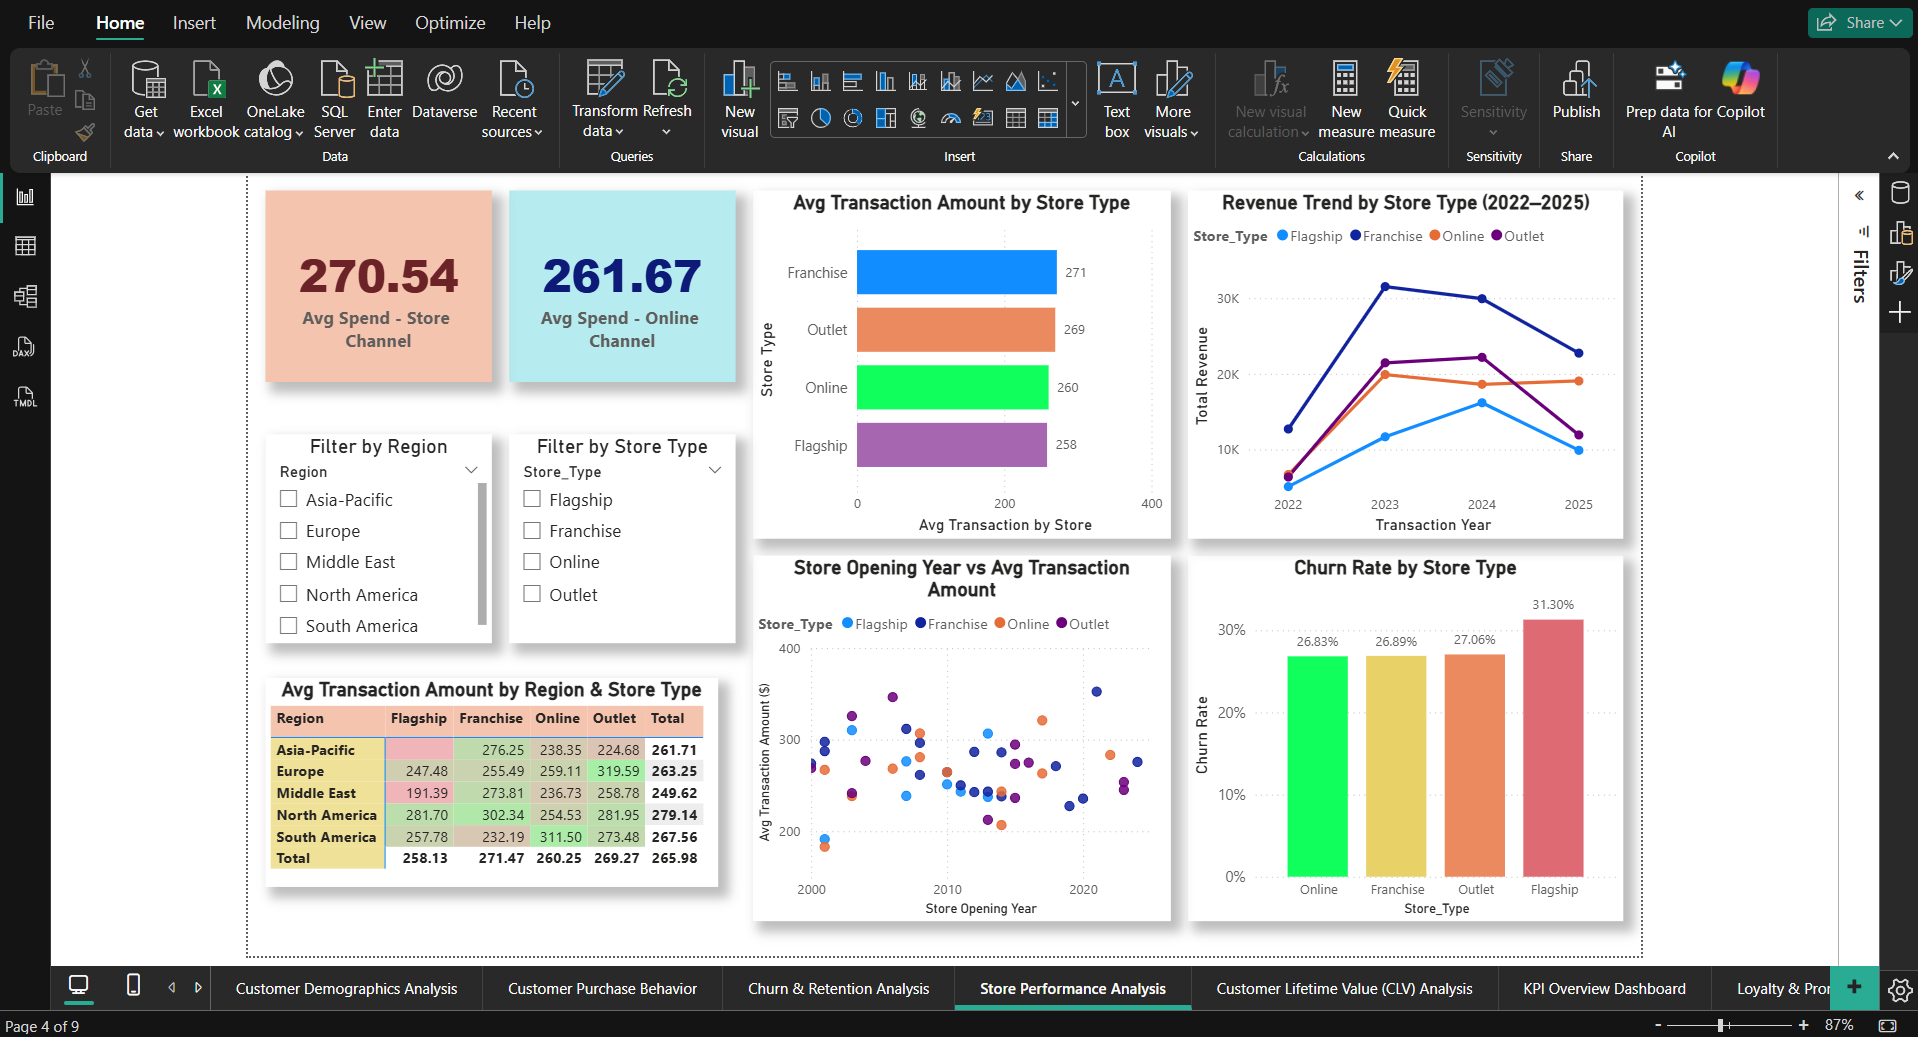

The dashboard page shown, as its layout file describes it:
{"tool":"powerbi","page":{"name":"Store Performance Analysis","canvas":[1280,720],"ordinal":3},"visuals":[{"type":"clusteredBarChart","title":"Avg Transaction Amount by Store Type","fields":{"Category":["Stores.Store_Type"],"Y":["Transactions.Avg Transaction by Store"]},"box":[464,16,384,320],"z":0},{"type":"clusteredColumnChart","title":"Churn Rate by Store Type","fields":{"Category":["Stores.Store_Type"],"Y":["Churn.Churn Rate"]},"box":[864,352,400,336],"z":1000},{"type":"pivotTable","title":"Avg Transaction Amount by Region & Store Type","fields":{"Rows":["Stores.Region"],"Columns":["Stores.Store_Type"],"Values":["Transactions.Avg Transaction by Store"]},"box":[16,464,416,192],"z":2000},{"type":"scatterChart","title":"Store Opening Year vs Avg Transaction Amount","fields":{"X":["Sum(Store_Retention_Summary.Opening_Year)"],"Y":["Sum(Store_Retention_Summary.Avg_Transaction)"],"Category":["Store_Retention_Summary.Store_ID"],"Series":["Store_Retention_Summary.Store_Type"]},"box":[464,352,384,336],"z":3000},{"type":"lineChart","title":"Revenue Trend by Store Type (2022–2025)","fields":{"Category":["Transactions.Transaction_Year"],"Y":["Transactions.Total Revenue"],"Series":["Stores.Store_Type"]},"box":[864,16,400,320],"z":4000},{"type":"card","title":"Avg Spend (Online Customers)","fields":{"Values":["Transactions.Avg Spend - Online Channel"]},"box":[240,16,208,176],"z":5000},{"type":"card","title":"Avg Spend (Store Customers)","fields":{"Values":["Transactions.Avg Spend - Store Channel"]},"box":[16,16,208,176],"z":6000},{"type":"slicer","title":"Filter by Region","fields":{"Values":["Stores.Region"]},"box":[16,240,208,192],"z":7000},{"type":"slicer","title":"Filter by Store Type","fields":{"Values":["Stores.Store_Type"]},"box":[240,240,208,192],"z":8000}]}

Visuals, with their boxes on the page's 1280x720 design canvas (x1, y1, x2, y2). These are canvas units, not pixel positions in the 1918x1037 screenshot, which may show the page scaled, cropped or inside an application window:
"Avg Transaction Amount by Store Type" clusteredBarChart: 464 16 848 336
"Churn Rate by Store Type" clusteredColumnChart: 864 352 1264 688
"Avg Transaction Amount by Region & Store Type" pivotTable: 16 464 432 656
"Store Opening Year vs Avg Transaction Amount" scatterChart: 464 352 848 688
"Revenue Trend by Store Type (2022–2025)" lineChart: 864 16 1264 336
"Avg Spend (Online Customers)" card: 240 16 448 192
"Avg Spend (Store Customers)" card: 16 16 224 192
"Filter by Region" slicer: 16 240 224 432
"Filter by Store Type" slicer: 240 240 448 432
